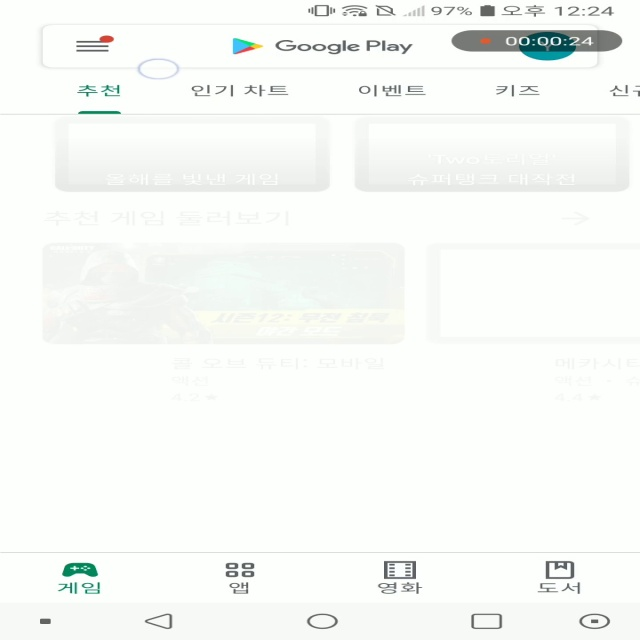Cursor: (136, 59, 181, 81)
